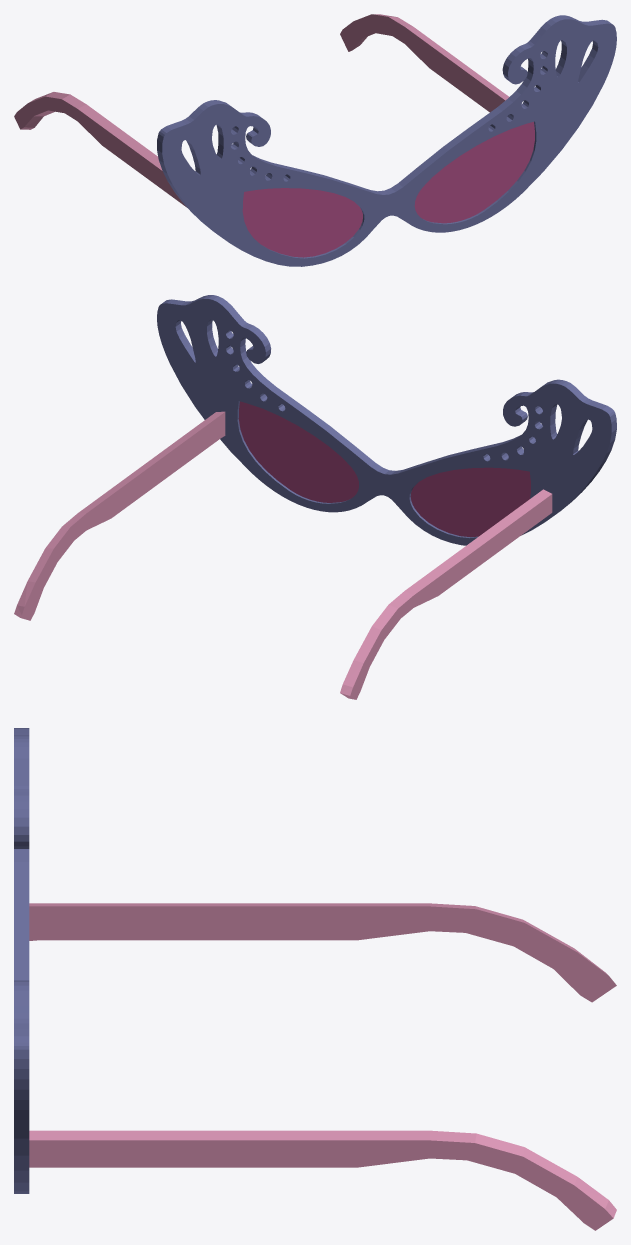
File: asset.glb
3 renders of one model, top to bottom at view 1: azimuth 30°, elevation 25°; view 2: azimuth 150°, elevation 25°; view 3: azimuth 270°, elevation 25°, orthographic. The views are drawn at different scales.
Visible parts, largest first — view 1: Mesh_Mesh_head_geo.001_lambert2SG.001; view 2: Mesh_Mesh_head_geo.001_lambert2SG.001; view 3: Mesh_Mesh_head_geo.001_lambert2SG.001.
Part boxes in pixels (<box>): Mesh_Mesh_head_geo.001_lambert2SG.001: <box>14,14,616,266</box>; Mesh_Mesh_head_geo.001_lambert2SG.001: <box>14,295,616,699</box>; Mesh_Mesh_head_geo.001_lambert2SG.001: <box>14,728,616,1230</box>.
Size of the model in its own units: 174 by 67.68 by 138.
